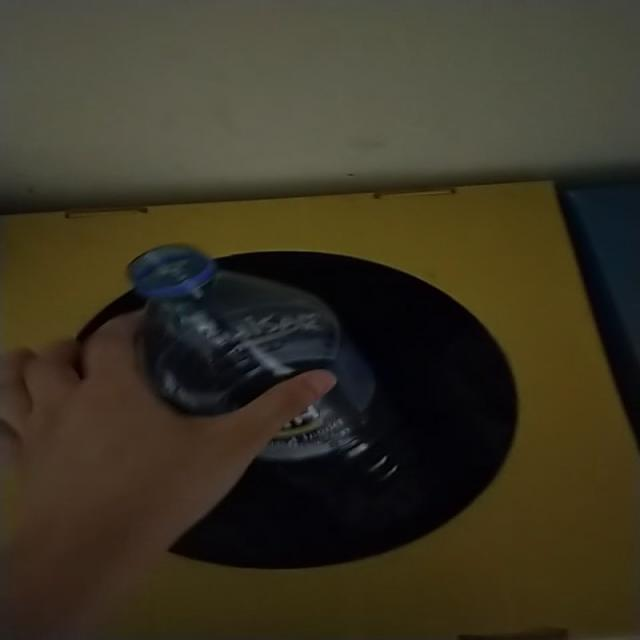plastic: (127, 244, 400, 482)
